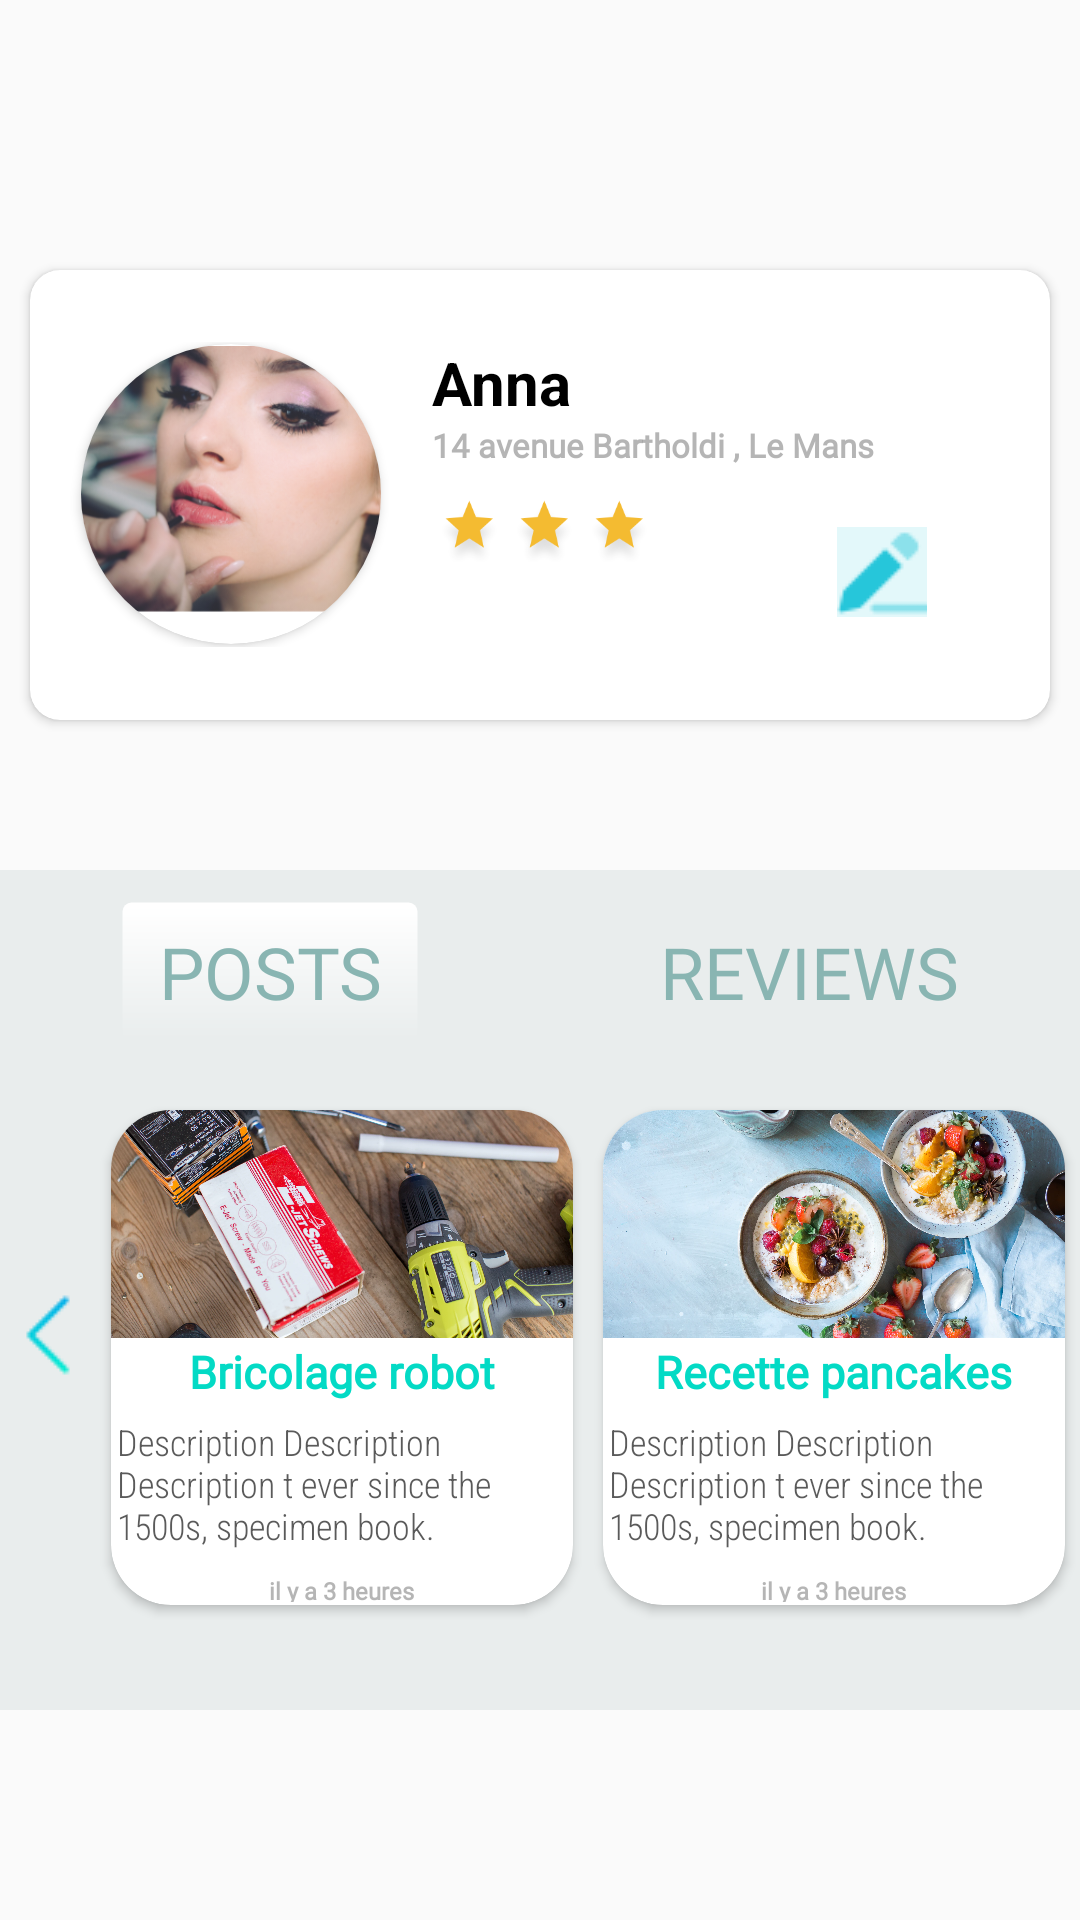

Screen size 1080×1920. Icon name, then its center in pixels as (x,y):
back: (48,1335)
edition: (882,572)
